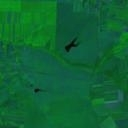alloviz: (63, 36, 80, 53), (32, 86, 42, 94)
